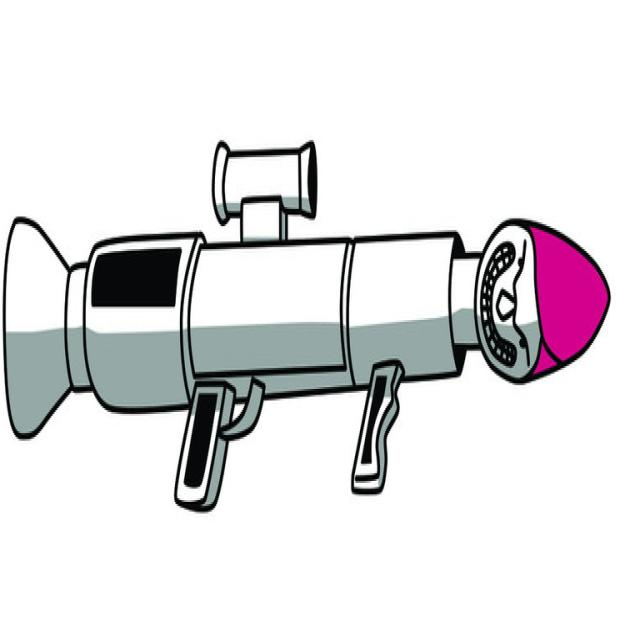Weapon: (3, 142, 609, 510)
